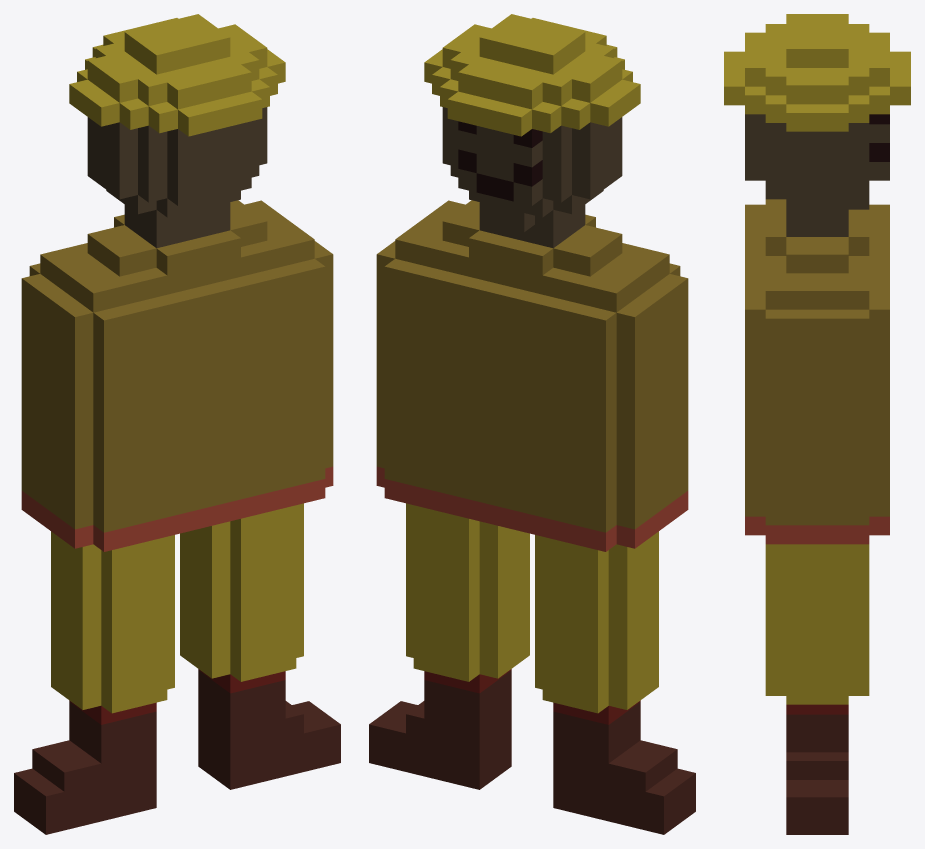
File: Human.obj
The picture shows the model from 3 angles, left to right: view 1: azimuth 30°, elevation 25°; view 2: azimuth 150°, elevation 25°; view 3: azimuth 270°, elevation 25°; orthographic projection. The views are drawn at different scales.
Size of the model in its own units: 1.6 by 3.9 by 0.9.
Materials: 1 (1 with a texture image).
